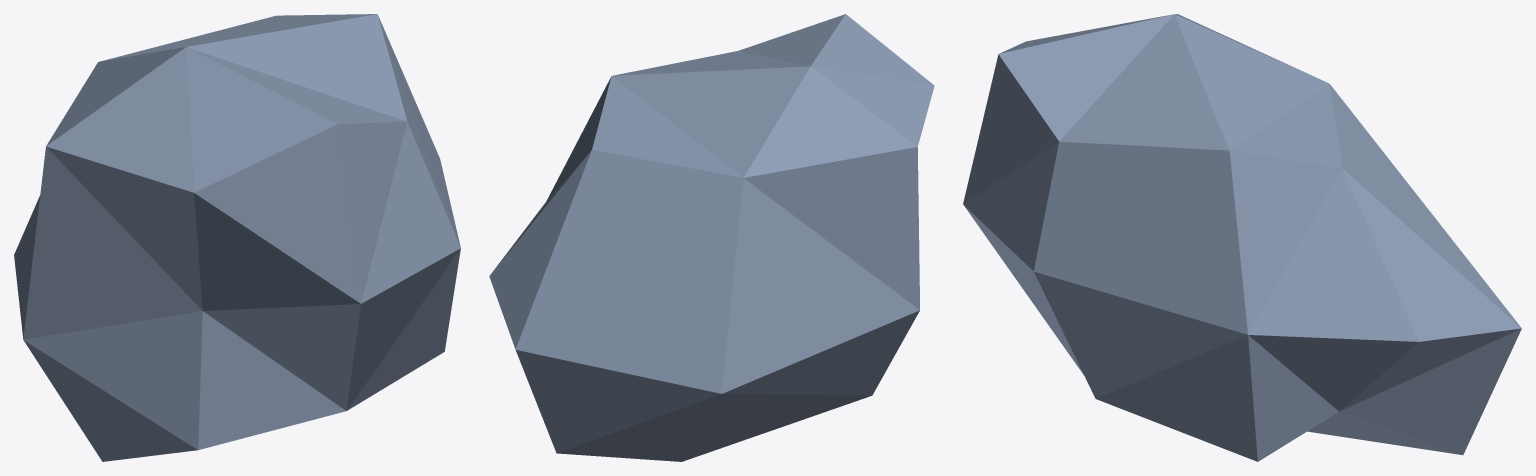
Rendered from Plainstone 4.fbx.
The picture shows the model from 3 angles, left to right: view 1: azimuth 30°, elevation 25°; view 2: azimuth 150°, elevation 25°; view 3: azimuth 270°, elevation 25°; orthographic projection. The views are drawn at different scales.
Parts seen in each view (by area): view 1: Plainstone Size 4; view 2: Plainstone Size 4; view 3: Plainstone Size 4.
Part boxes in pixels (x1=…): Plainstone Size 4: x1=14, y1=14, x2=460, y2=461; Plainstone Size 4: x1=489, y1=14, x2=934, y2=461; Plainstone Size 4: x1=963, y1=14, x2=1521, y2=461.
Bounding box in the file's own units: 426 × 381 × 516.
